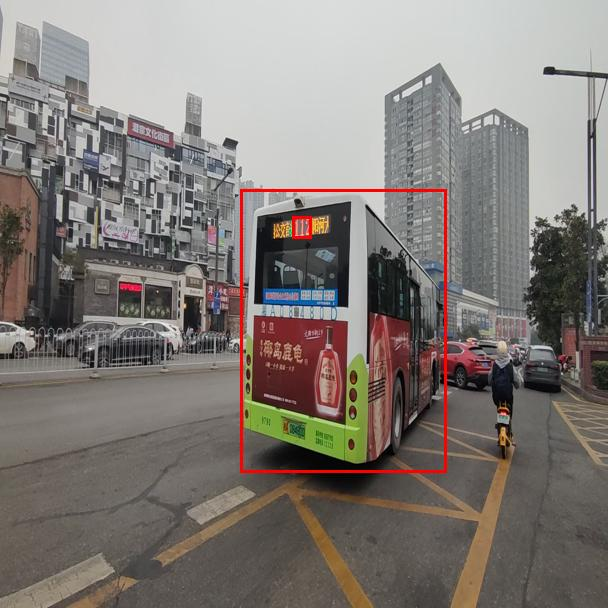bus: (240, 189, 446, 472)
screen: (292, 216, 311, 238)
